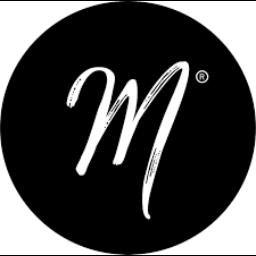m: (69, 60, 207, 208)
